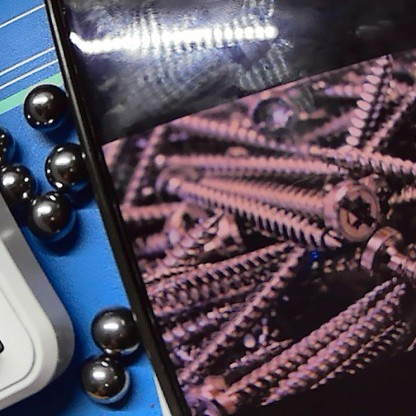ironball: (72, 349, 138, 408), (78, 295, 139, 351), (14, 80, 74, 135), (20, 192, 68, 239), (43, 145, 88, 188), (0, 164, 33, 204)
